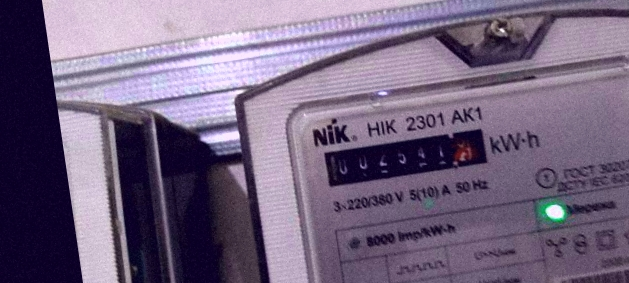0: (334, 153, 350, 176), (354, 148, 369, 171)
1: (432, 138, 446, 159)
2: (374, 146, 389, 168)
4: (414, 140, 428, 162)
5: (393, 143, 408, 166)
6: (456, 147, 469, 163)
screen: (312, 117, 500, 196)
